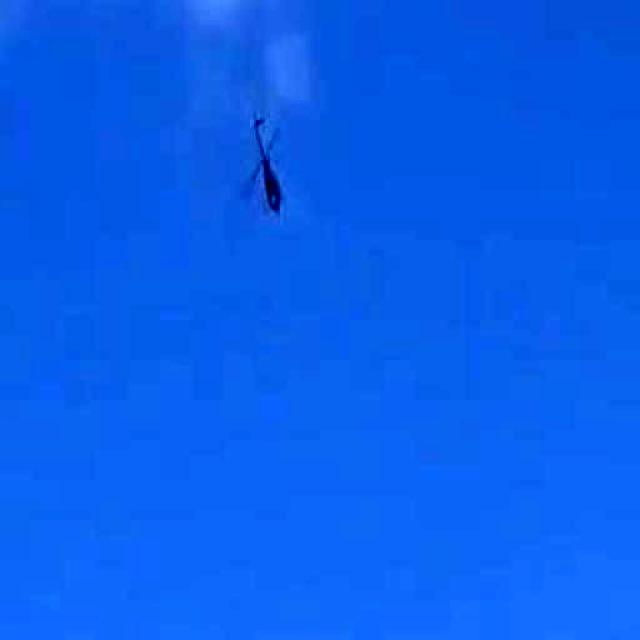drone: (205, 88, 321, 248)
